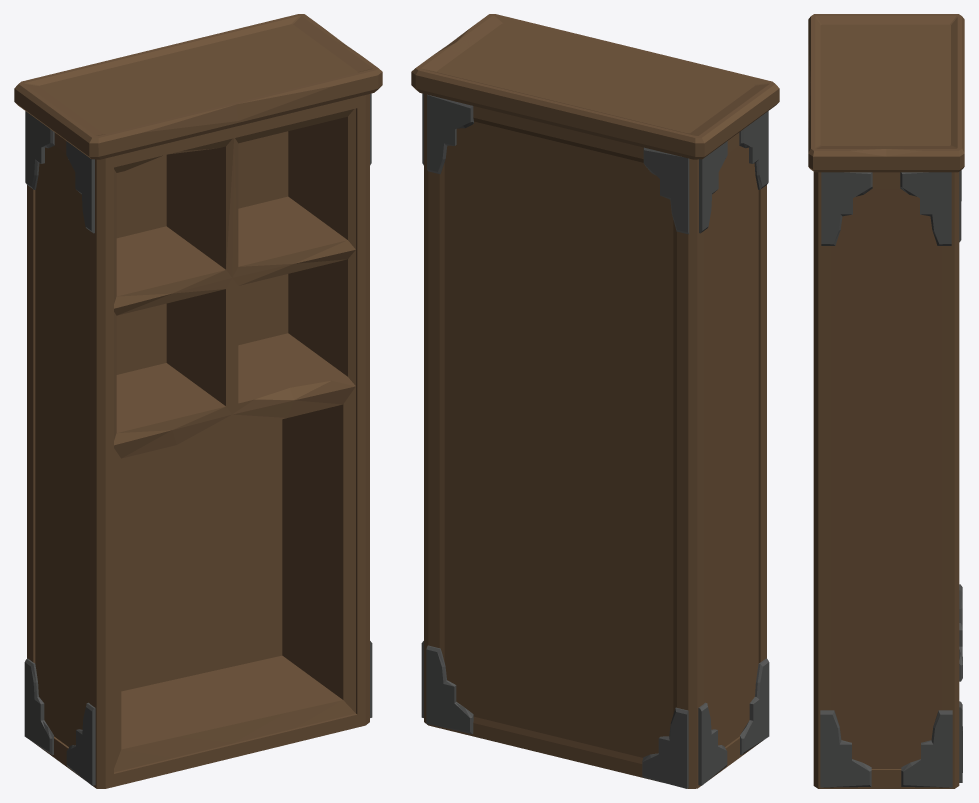
The model's file is Shelving_013.fbx.
The picture shows the model from 3 angles, left to right: view 1: azimuth 30°, elevation 25°; view 2: azimuth 150°, elevation 25°; view 3: azimuth 270°, elevation 25°; orthographic projection. The views are drawn at different scales.
Visible parts, largest first — view 1: Shelving_013; view 2: Shelving_013; view 3: Shelving_013.
Boxes of the visible parts, box(x1,y1,x2,y2) form: Shelving_013: box(14, 14, 382, 788); Shelving_013: box(411, 14, 779, 788); Shelving_013: box(808, 14, 964, 788).
Bounding box in the file's own units: 0.5786 × 1.23 × 0.2727.
